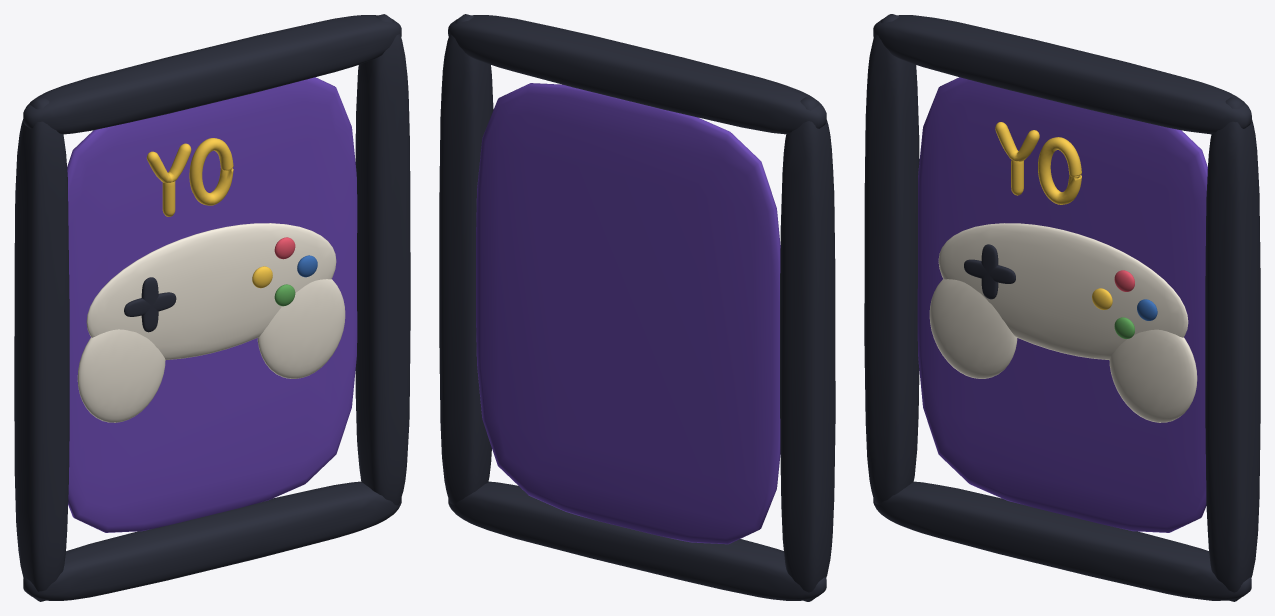
File: deco_poster_control.glb
3 renders of one model, left to right at view 1: azimuth 30°, elevation 25°; view 2: azimuth 150°, elevation 25°; view 3: azimuth 330°, elevation 25°, orthographic.
Parts seen in each view (by area): view 1: lienzo.012, marco vertical.024, marco vertical.025, control.001, marco horizontal.025, marco horizontal.024, agarre -1.001, agarre 1.001, letra 1 0.002, letra 0 0.002, cruceta v.001, cruceta h.001; view 2: lienzo.012, marco vertical.024, marco horizontal.025, marco vertical.025, marco horizontal.024; view 3: lienzo.012, marco vertical.025, marco vertical.024, control.001, marco horizontal.025, marco horizontal.024, agarre 1.001, agarre -1.001, letra 1 0.002, letra 0 0.002, cruceta v.001, cruceta h.001.
Part boxes in pixels (left/top/right/bottom): lienzo.012: left=67, top=77, right=357, bottom=532; marco vertical.024: left=14, top=97, right=69, bottom=601; marco vertical.025: left=355, top=14, right=410, bottom=505; control.001: left=86, top=223, right=336, bottom=359; marco horizontal.025: left=23, top=15, right=401, bottom=134; marco horizontal.024: left=23, top=481, right=401, bottom=600; agarre -1.001: left=77, top=329, right=165, bottom=422; agarre 1.001: left=257, top=279, right=345, bottom=378; letra 1 0.002: left=189, top=138, right=233, bottom=205; letra 0 0.002: left=146, top=143, right=191, bottom=182; cruceta v.001: left=141, top=277, right=158, bottom=332; cruceta h.001: left=124, top=292, right=176, bottom=316; lienzo.012: left=476, top=83, right=780, bottom=544; marco vertical.024: left=780, top=97, right=835, bottom=601; marco horizontal.025: left=448, top=15, right=826, bottom=134; marco vertical.025: left=439, top=14, right=493, bottom=505; marco horizontal.024: left=448, top=481, right=826, bottom=600; lienzo.012: left=917, top=77, right=1207, bottom=532; marco vertical.025: left=1205, top=97, right=1260, bottom=601; marco vertical.024: left=864, top=14, right=919, bottom=504; control.001: left=938, top=223, right=1188, bottom=359; marco horizontal.025: left=873, top=15, right=1251, bottom=134; marco horizontal.024: left=873, top=481, right=1251, bottom=600; agarre 1.001: left=1109, top=329, right=1197, bottom=422; agarre -1.001: left=929, top=279, right=1017, bottom=378; letra 1 0.002: left=1038, top=137, right=1081, bottom=204; letra 0 0.002: left=995, top=122, right=1039, bottom=161; cruceta v.001: left=981, top=244, right=998, bottom=299; cruceta h.001: left=964, top=259, right=1015, bottom=283.
Bounding box in the file's own units: 0.5095 × 0.6498 × 0.0598.
